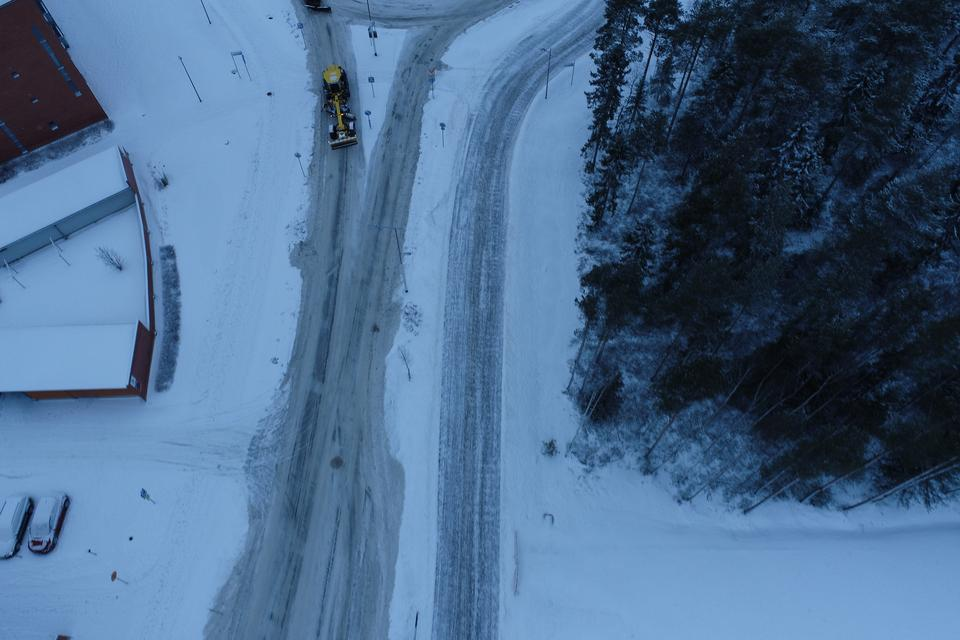intersection: (158, 406, 529, 497)
roundabout: (236, 0, 649, 112)
